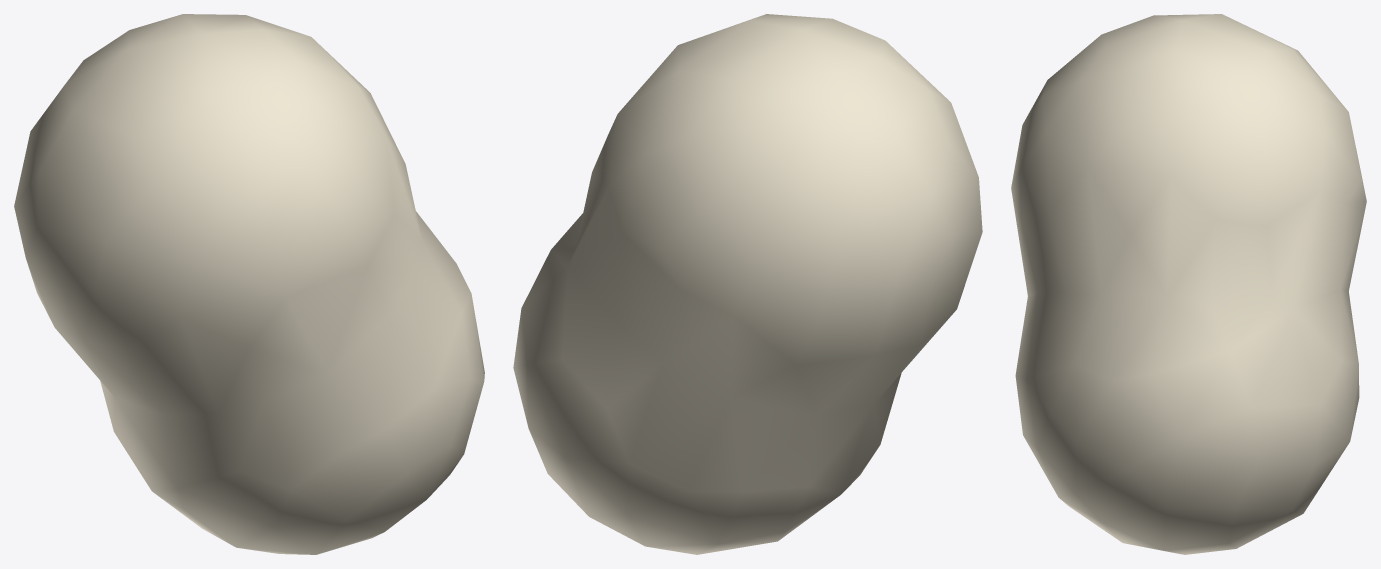
The model's file is caudal_9.glb.
3 renders of one model, left to right at view 1: azimuth 30°, elevation 25°; view 2: azimuth 150°, elevation 25°; view 3: azimuth 270°, elevation 25°, orthographic. The views are drawn at different scales.
Parts seen in each view (by area): view 1: geometry_0; view 2: geometry_0; view 3: geometry_0.
Part boxes in pixels (x1=…): geometry_0: x1=14, y1=14, x2=484, y2=554; geometry_0: x1=513, y1=14, x2=982, y2=554; geometry_0: x1=1011, y1=14, x2=1366, y2=554.
Size of the model in its own units: 0.04 by 0.0482 by 0.0327.
